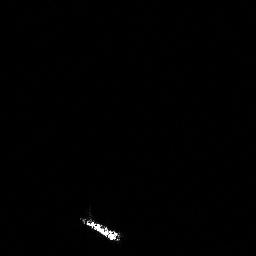ship: (74, 212, 127, 246)
